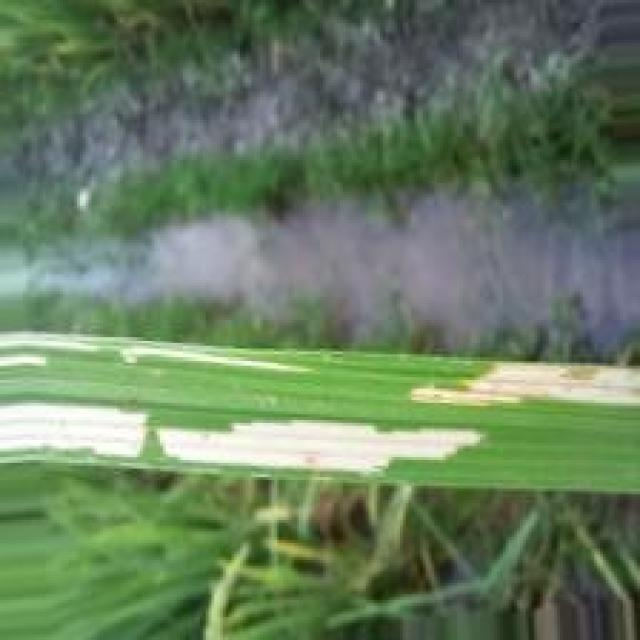Rice_Hispa: (0, 403, 483, 477), (0, 337, 309, 379), (406, 361, 640, 403)
